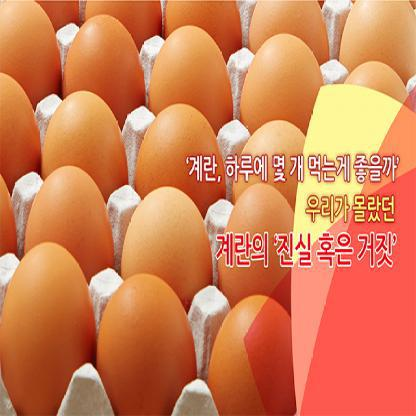egg: (0, 241, 102, 415), (116, 175, 222, 325), (16, 167, 126, 304), (99, 260, 196, 415), (220, 30, 342, 138), (215, 187, 309, 324), (205, 285, 303, 415), (36, 92, 132, 211), (134, 23, 238, 129), (64, 9, 156, 127), (224, 108, 324, 216), (133, 96, 230, 207), (326, 0, 416, 92)
